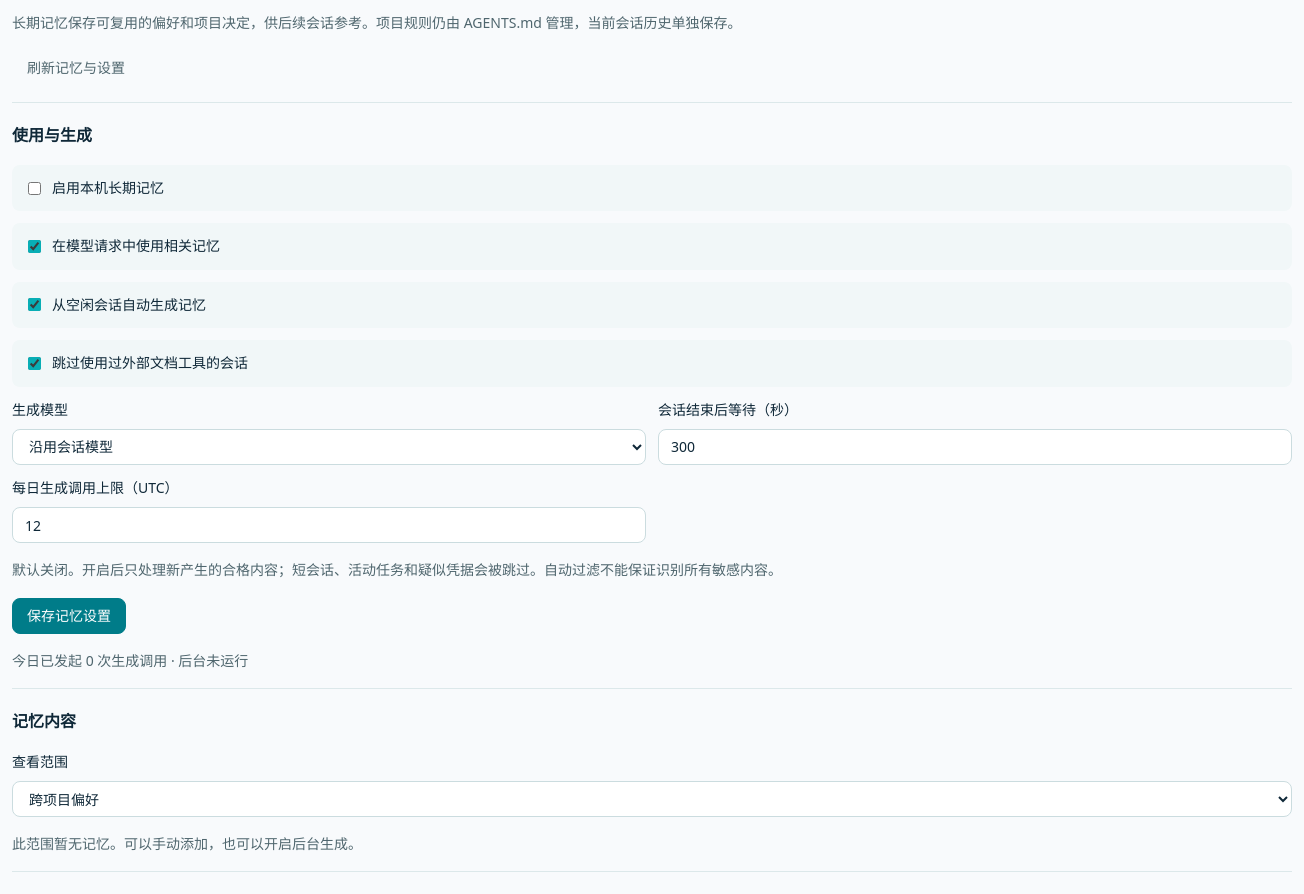
Test: 本机记忆设置 › 开启自动生成前说明模型费用，取消不保存，确认后携带版本保存
Click the checkbox labelled "启用本机长期记忆" at (34, 188), box [28,182,41,195]
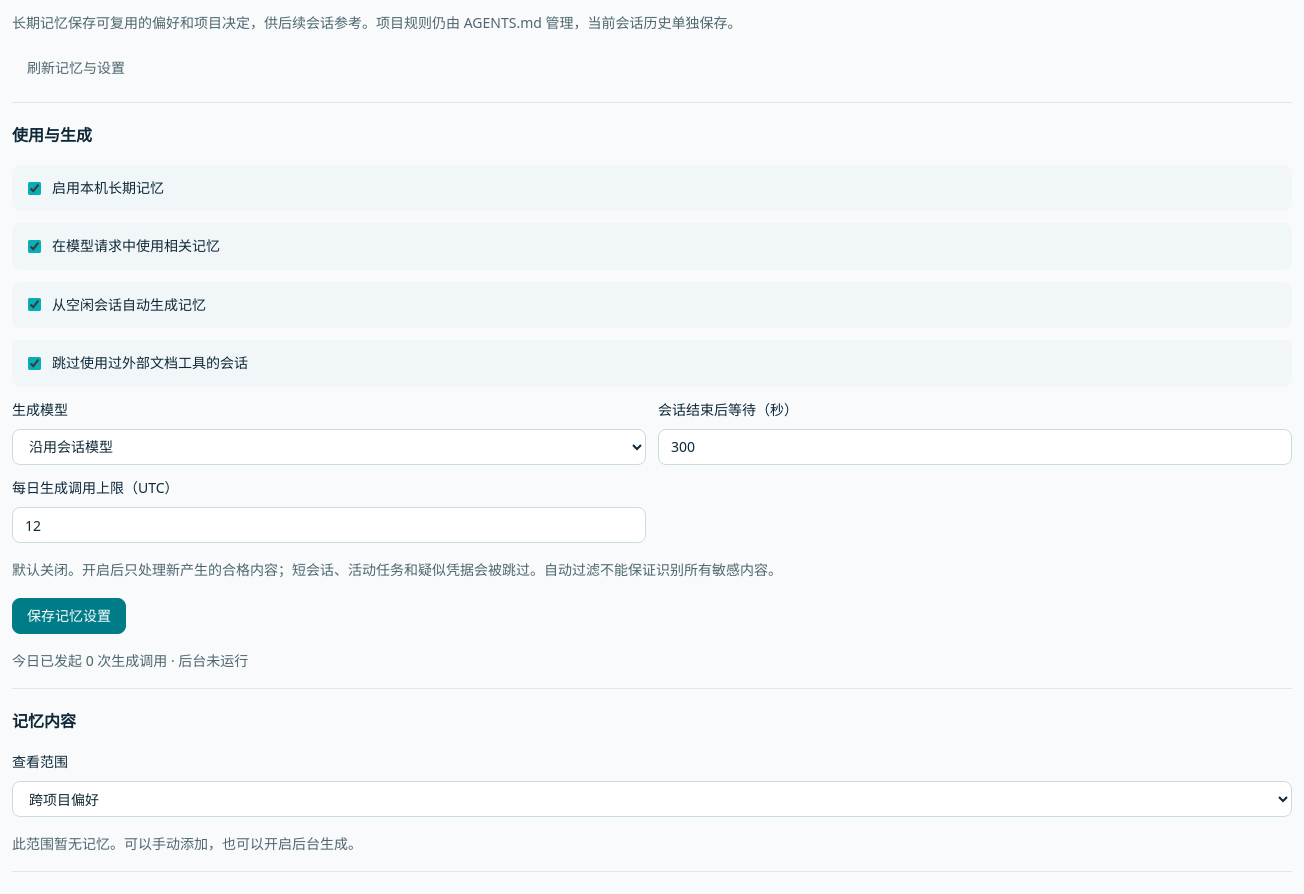
Submit the form that starts with "使用与生成", box [12,102,1292,634]
Submit the form that starts with "使用与生成", box [12,102,1292,634]
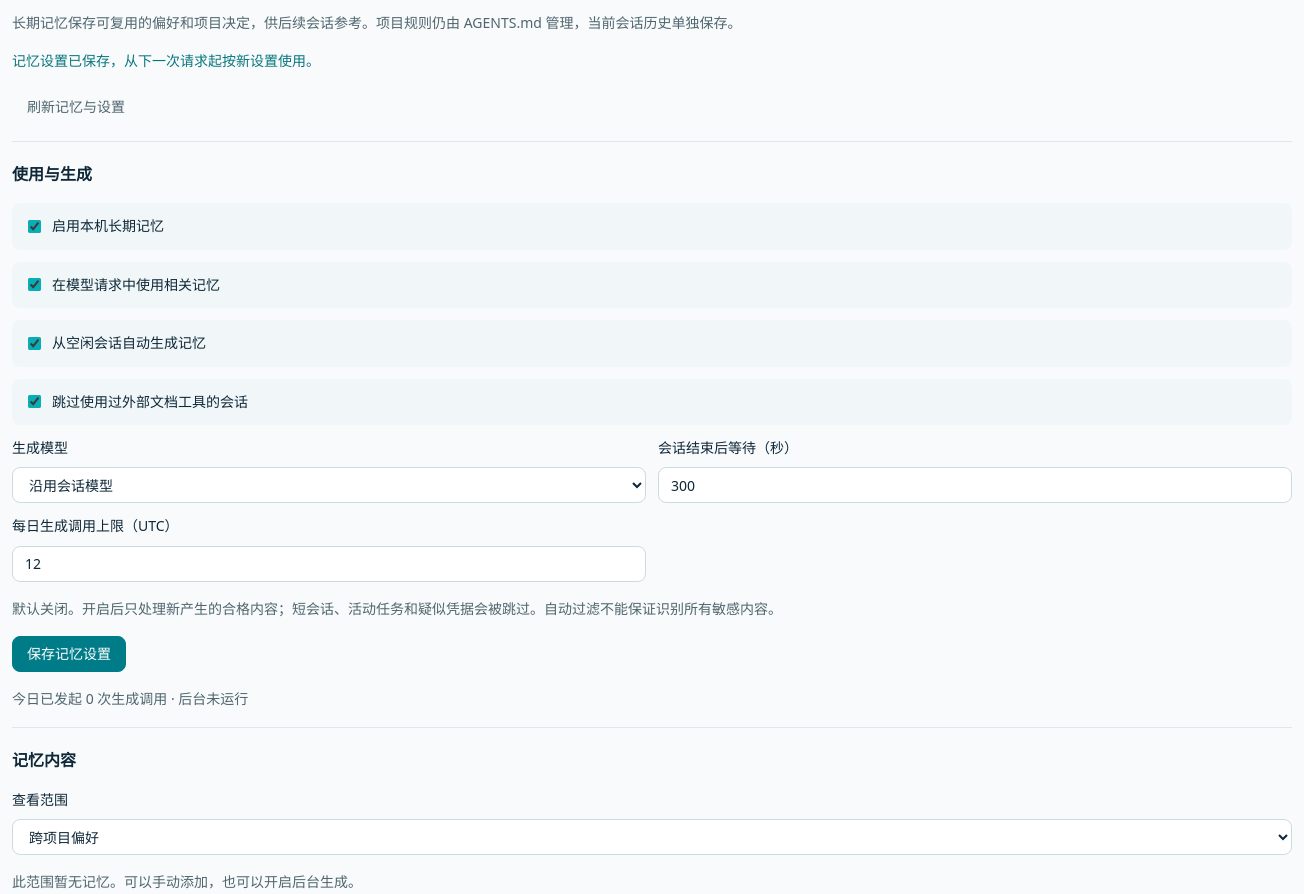
Result: the text "记忆设置已保存" is shown at [12,51,320,70]
